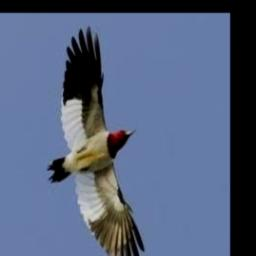Woodpecker: (47, 25, 144, 256)
